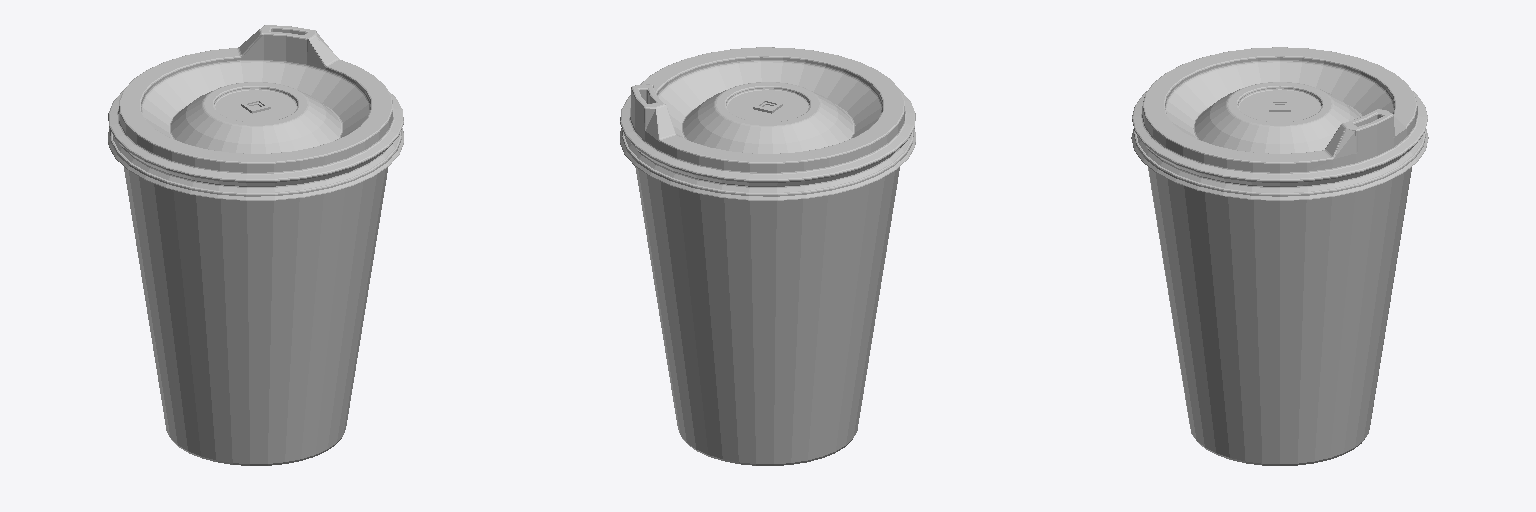
File: coffee cup.obj
3 renders of one model, left to right at view 1: azimuth 30°, elevation 25°; view 2: azimuth 150°, elevation 25°; view 3: azimuth 270°, elevation 25°, orthographic.
Visible parts, largest first — view 1: cap, Cylinder.001; view 2: cap, Cylinder.001; view 3: cap, Cylinder.001.
Boxes of the visible parts, <box> form: cap: <box>124,167,387,465</box>; Cylinder.001: <box>108,25,403,200</box>; cap: <box>635,167,899,465</box>; Cylinder.001: <box>620,47,915,200</box>; cap: <box>1148,167,1411,465</box>; Cylinder.001: <box>1131,47,1428,200</box>.
Bounding box in the file's own units: 6.35 × 8.19 × 6.35.